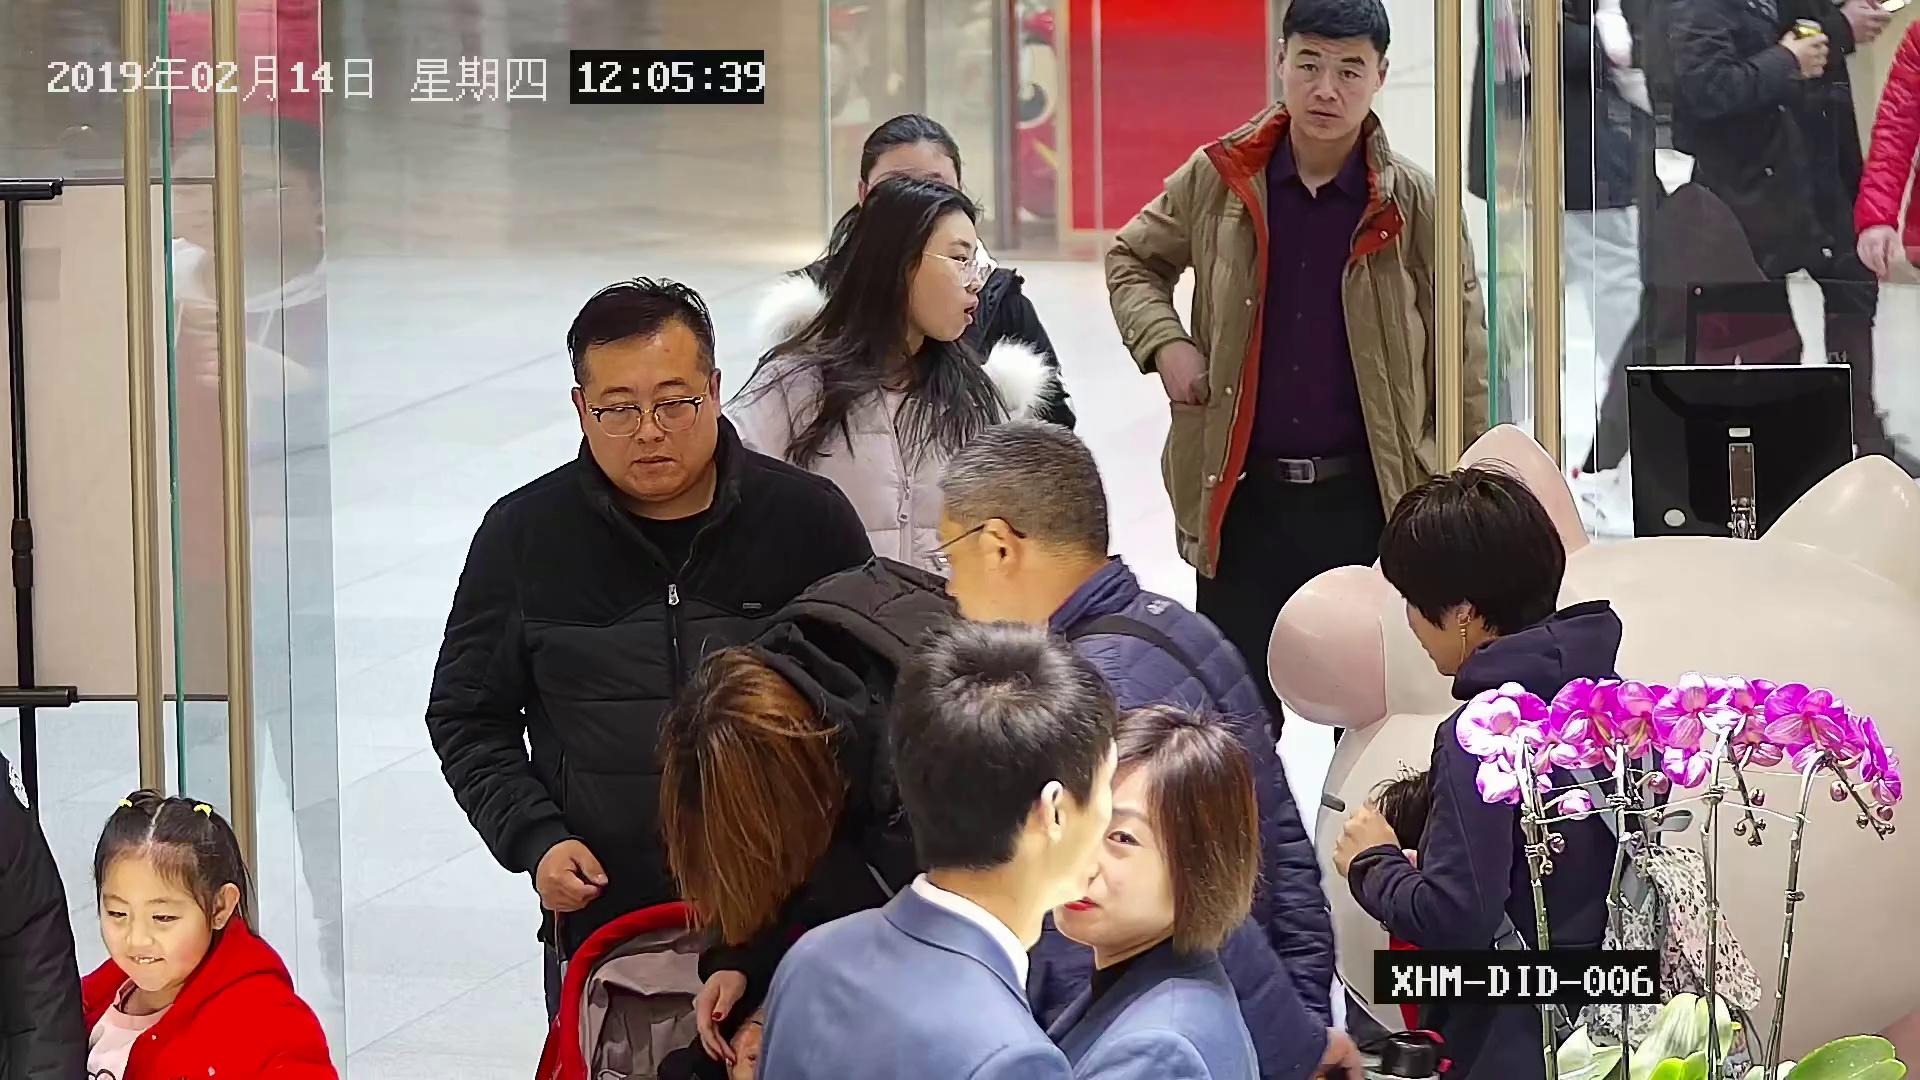head: (884, 618, 1115, 905), (1042, 698, 1249, 945), (1376, 466, 1565, 673), (928, 416, 1103, 631), (564, 274, 719, 503), (662, 650, 831, 825), (90, 800, 237, 995), (852, 174, 987, 341), (1270, 0, 1389, 145), (853, 112, 964, 251)
